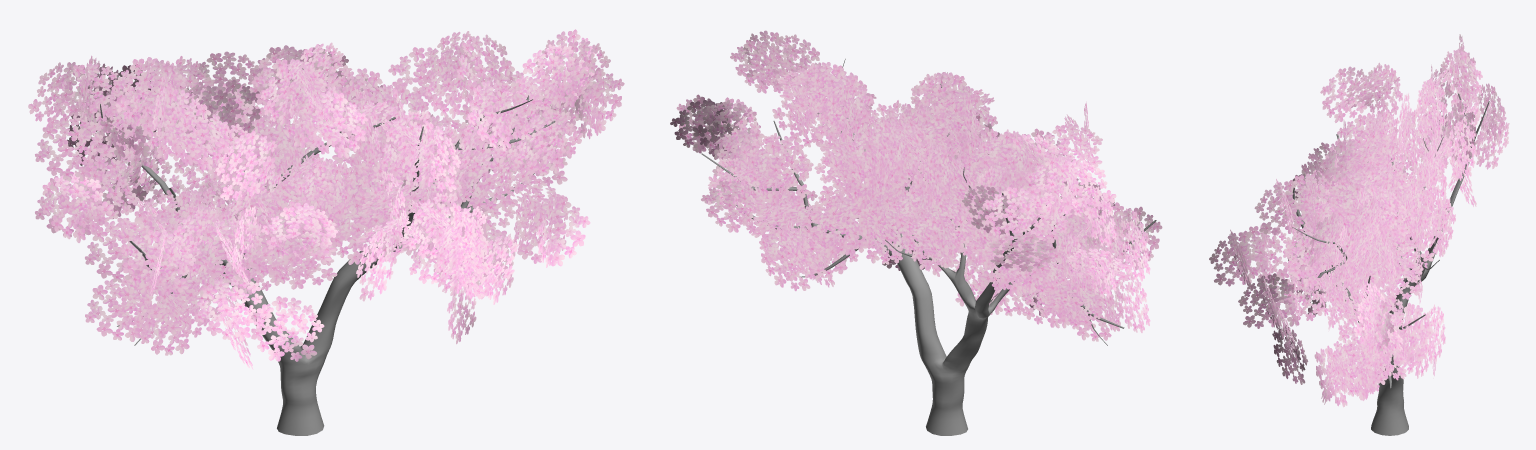
The model's file is tree8.FBX.
The picture shows the model from 3 angles, left to right: view 1: azimuth 30°, elevation 25°; view 2: azimuth 150°, elevation 25°; view 3: azimuth 270°, elevation 25°; orthographic projection. The views are drawn at different scales.
Visible parts, largest first — view 1: SakuraFlowers, SakuraTrunk; view 2: SakuraFlowers, SakuraTrunk; view 3: SakuraFlowers, SakuraTrunk.
Boxes of the visible parts, <box> form: SakuraFlowers: <box>28,29,624,369</box>; SakuraTrunk: <box>100,75,555,435</box>; SakuraFlowers: <box>670,30,1162,341</box>; SakuraTrunk: <box>701,58,1156,435</box>; SakuraFlowers: <box>1209,34,1509,407</box>; SakuraTrunk: <box>1292,93,1489,435</box>.
Bounding box in the file's own units: 500 × 297 × 335.
